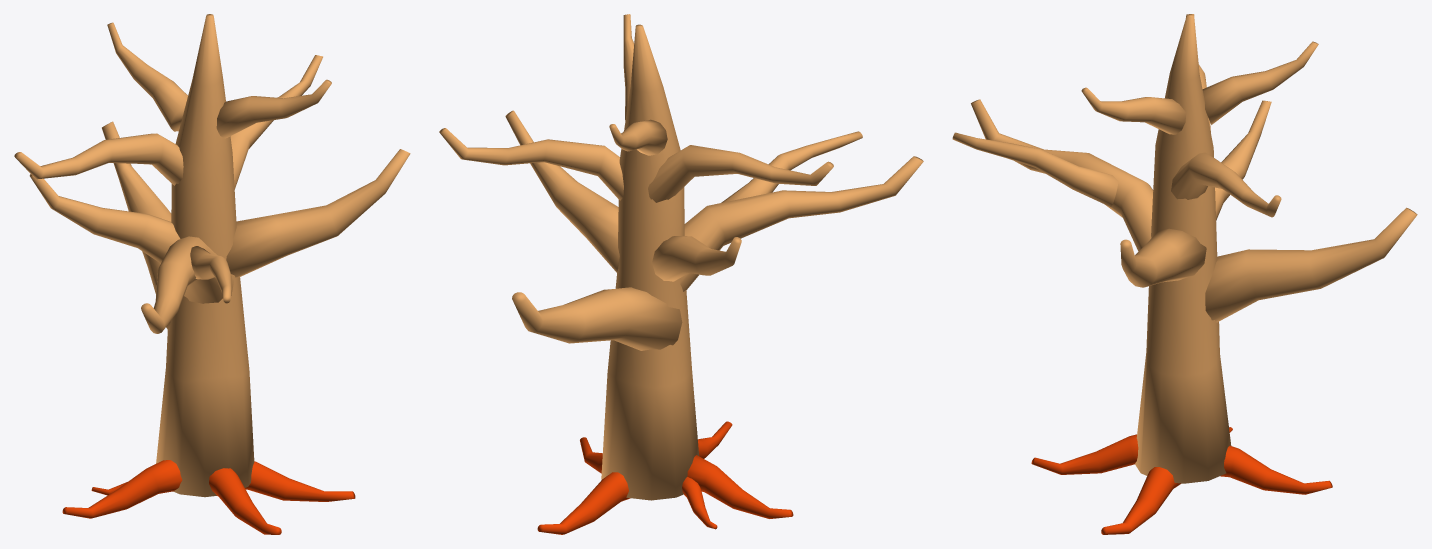
Rendered from m_tree01.fbx.
3 renders of one model, left to right at view 1: azimuth 30°, elevation 25°; view 2: azimuth 150°, elevation 25°; view 3: azimuth 270°, elevation 25°, orthographic.
Parts seen in each view (by area): view 1: m_tree01; view 2: m_tree01; view 3: m_tree01.
Boxes of the visible parts, box(x1,y1,x2,y2) form: m_tree01: box(14, 14, 410, 534); m_tree01: box(439, 14, 923, 534); m_tree01: box(952, 14, 1417, 534).
Size of the model in its own units: 833 by 1062 by 936.
